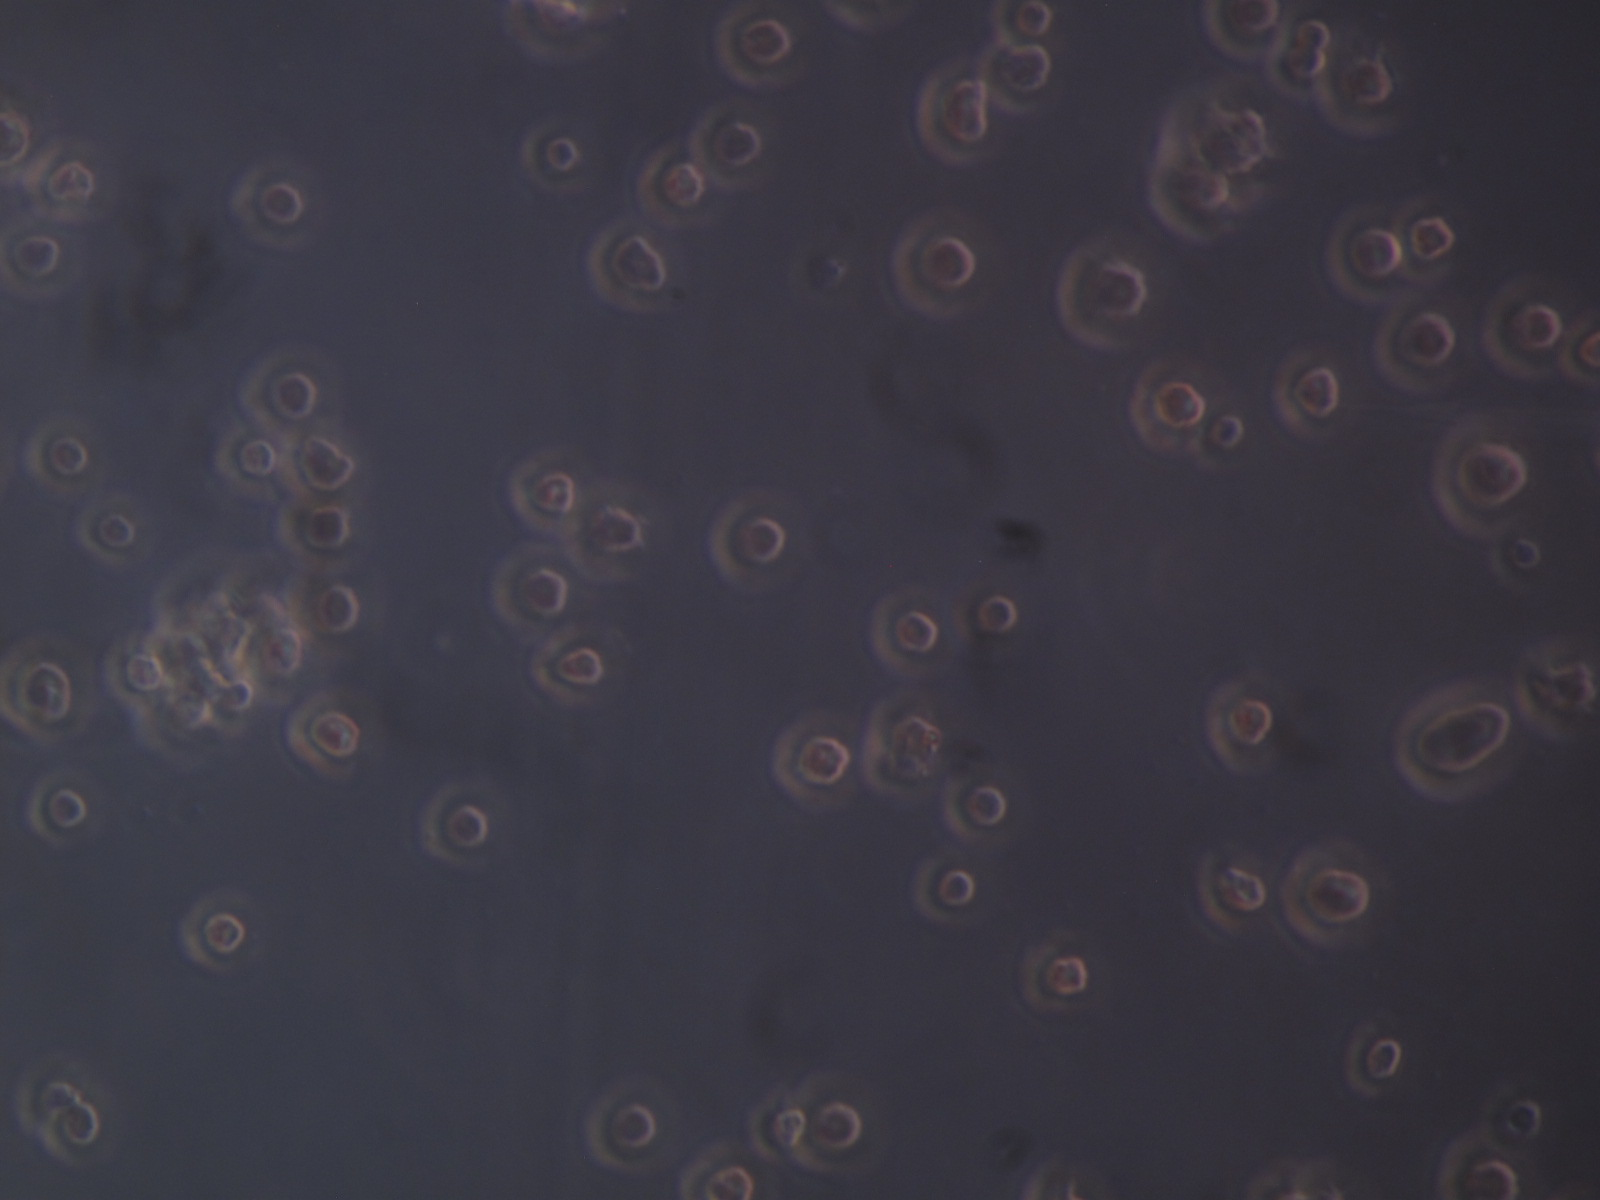hemo: (1395, 682, 1514, 802), (1432, 408, 1524, 536), (1281, 845, 1372, 950), (887, 223, 976, 321), (1519, 630, 1597, 740), (1482, 276, 1563, 379), (1060, 252, 1144, 352), (860, 695, 942, 797), (1, 632, 74, 745), (785, 1070, 863, 1176), (708, 492, 787, 594), (228, 156, 311, 253), (569, 479, 648, 581), (1376, 297, 1456, 393), (237, 350, 323, 440), (590, 218, 669, 314), (489, 543, 568, 635), (915, 66, 986, 166), (582, 1078, 656, 1174), (1203, 678, 1274, 778), (1332, 205, 1401, 306), (283, 687, 360, 778), (1148, 158, 1231, 241), (636, 144, 716, 231), (501, 1, 609, 66), (774, 722, 854, 805), (689, 102, 761, 193), (1197, 845, 1267, 937), (530, 628, 607, 711), (1320, 55, 1398, 136), (712, 9, 791, 87), (1135, 364, 1209, 447), (420, 782, 490, 868), (871, 592, 939, 682), (503, 454, 578, 533), (1272, 350, 1340, 437), (978, 37, 1052, 116), (278, 429, 360, 500), (24, 142, 96, 224), (212, 418, 278, 505), (101, 632, 168, 712), (141, 692, 220, 759), (1441, 1134, 1522, 1200), (1396, 192, 1456, 279), (278, 497, 351, 568), (1198, 1, 1284, 62), (1, 217, 60, 303), (24, 418, 91, 494), (15, 1058, 81, 1134), (289, 572, 365, 637), (944, 771, 1008, 847), (76, 495, 144, 566), (1017, 944, 1089, 1011), (181, 899, 248, 971), (520, 121, 585, 194), (26, 770, 87, 846), (910, 856, 976, 923), (745, 1087, 805, 1160), (1342, 1022, 1401, 1097), (1264, 37, 1328, 103), (959, 586, 1017, 658), (678, 1147, 753, 1200), (40, 1100, 100, 1163), (1490, 529, 1541, 591), (1, 108, 42, 184), (257, 621, 307, 681), (991, 1, 1052, 45), (214, 676, 263, 727), (1276, 15, 1330, 52)
